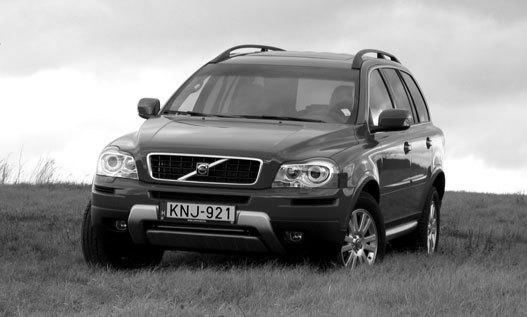car: (81, 44, 449, 273)
